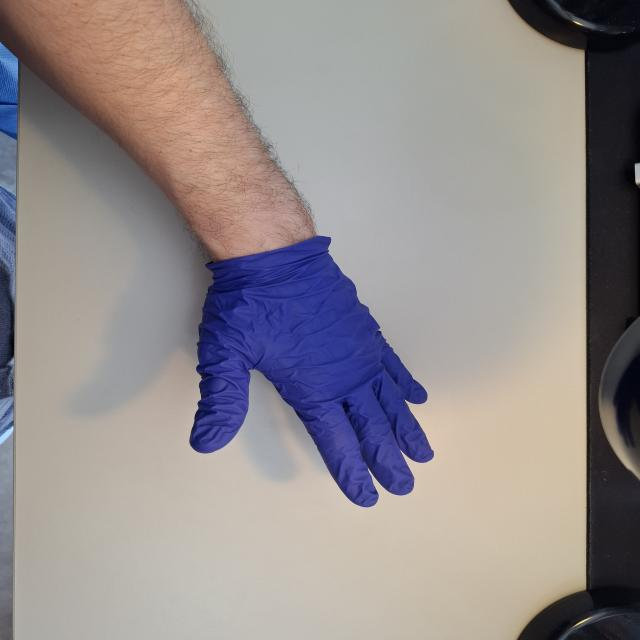glove_on: (185, 247, 439, 509)
